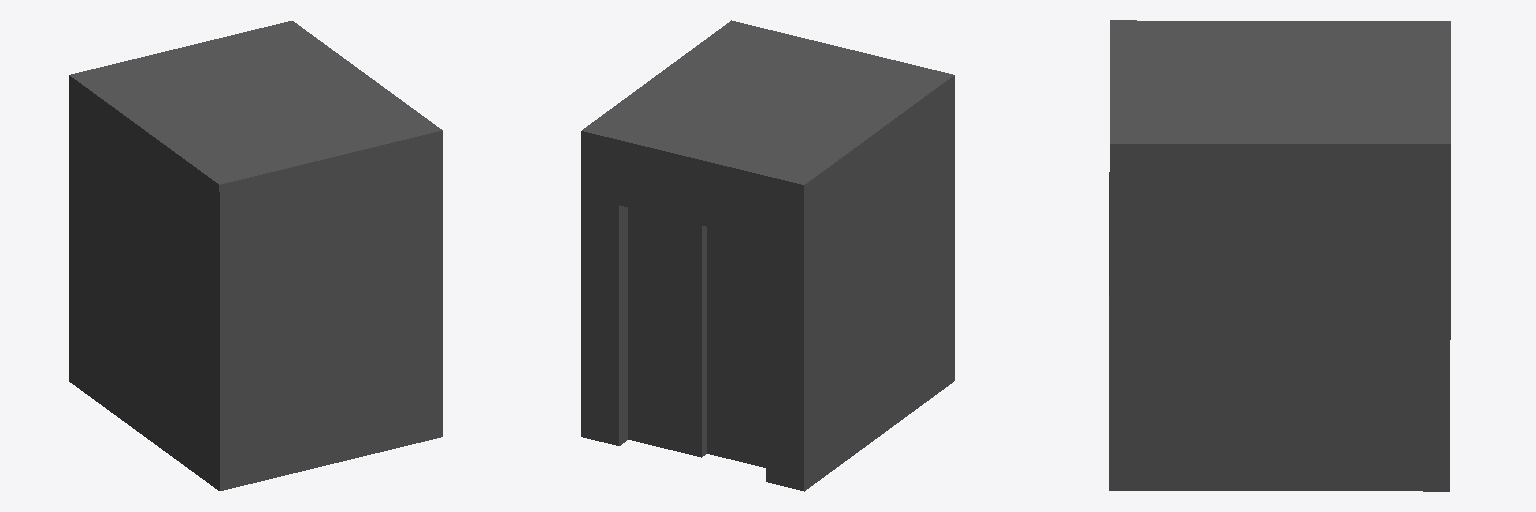
robot.urdf — elevator_1:
<?xml version="0.0" ?>
<robot name="elevator_1">

  <link name="base_link">
    <inertial>
      <origin rpy="0 0 0" xyz="0 0 0"/>
       <mass value=".0"/>
       <inertia ixx="0" ixy="0" ixz="0" iyy="0" iyz="0" izz="0"/>
    </inertial>
    <visual>
      <origin rpy="0 0 0" xyz="0 0 1"/>
      <geometry>
				<box size="1.1 1.467 2"/>
      </geometry>
      <material name="black_metal">
       <color rgba="0.4 0.4 0.4 1"/>
     </material>
    </visual>
  </link>

  <link name="elevator">
    <inertial>
      <origin rpy="0 0 0" xyz="0 0 0"/>
       <mass value=".0"/>
       <inertia ixx="0" ixy="0" ixz="0" iyy="0" iyz="0" izz="0"/>
    </inertial>
    <visual>
      <origin rpy="1.57 0 0" xyz="0 0 1.0485"/>
      <geometry>
        <mesh filename="package://adream_simulation/models/cad_models/obj/elevator_1.obj" scale="1 0.9 1"/>
      </geometry>
       <material name="black_metal">
        <color rgba="0.4 0.4 0.4 1"/>
      </material>
    </visual>
  </link>

  <joint name="base_to_elevator" type="prismatic">
    <parent link="base_link"/>
    <child link="elevator"/>
    <axis xyz="0 0 1"/>
    <limit effort="1000.0" lower="0" upper="4" velocity="0.5"/>
    <origin rpy="0 0 0" xyz="0 0 0"/>
  </joint>

</robot>

--- Render facts (derived) ---
3 views of the same robot in one strip: view 1: azimuth 30°, elevation 25°; view 2: azimuth 150°, elevation 25°; view 3: azimuth 270°, elevation 25° (orthographic).
Robot: elevator_1 — 2 links, 1 joints (1 prismatic); root link base_link; default pose: every joint at zero.
Links seen in each view (by area): view 1: elevator; view 2: elevator; view 3: elevator.
Boxes of the visible links, x1,y1,x2,y2 form: elevator: (69,21,442,490); elevator: (581,20,954,491); elevator: (1109,20,1450,491).
Bounding box of the posed robot: 1.6 × 1.87 × 2.1 m (x, y, z).
Meshes: 1 distinct files referenced, 1 mesh visuals loaded (1 OBJ).